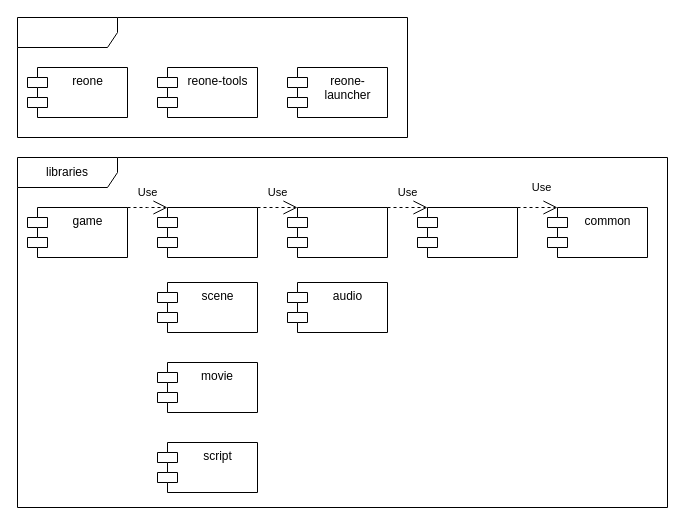
The diagram is 685 pixels wide and 525 high, and some of its shapes have lost their labels. Each missing label, with the box of its shape:
executables: (16, 16, 408, 138)
graphics: (286, 206, 388, 258)
gui: (156, 206, 258, 258)
resource: (416, 206, 518, 258)
